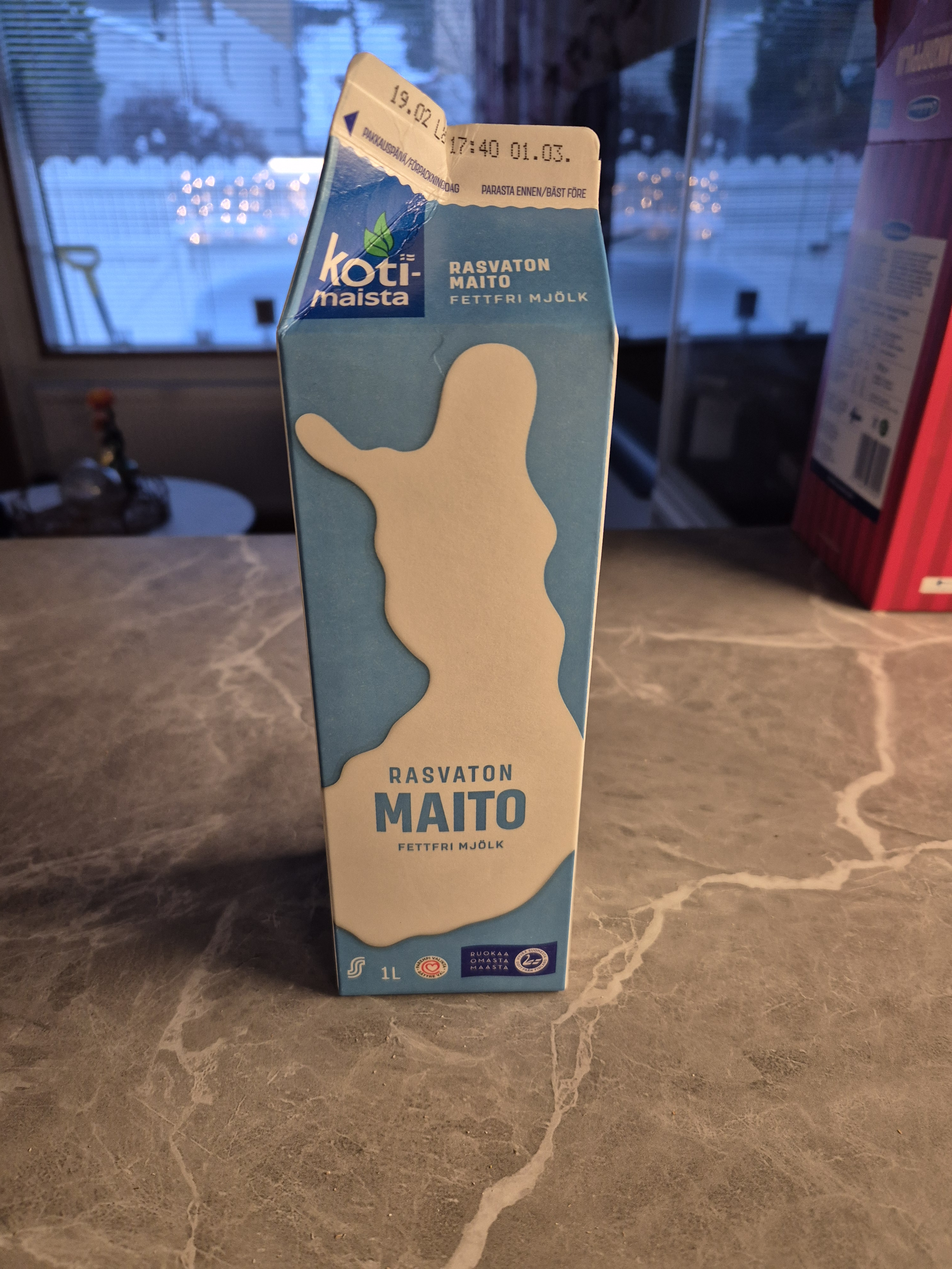Dryckeskartong: (274, 48, 622, 999)
